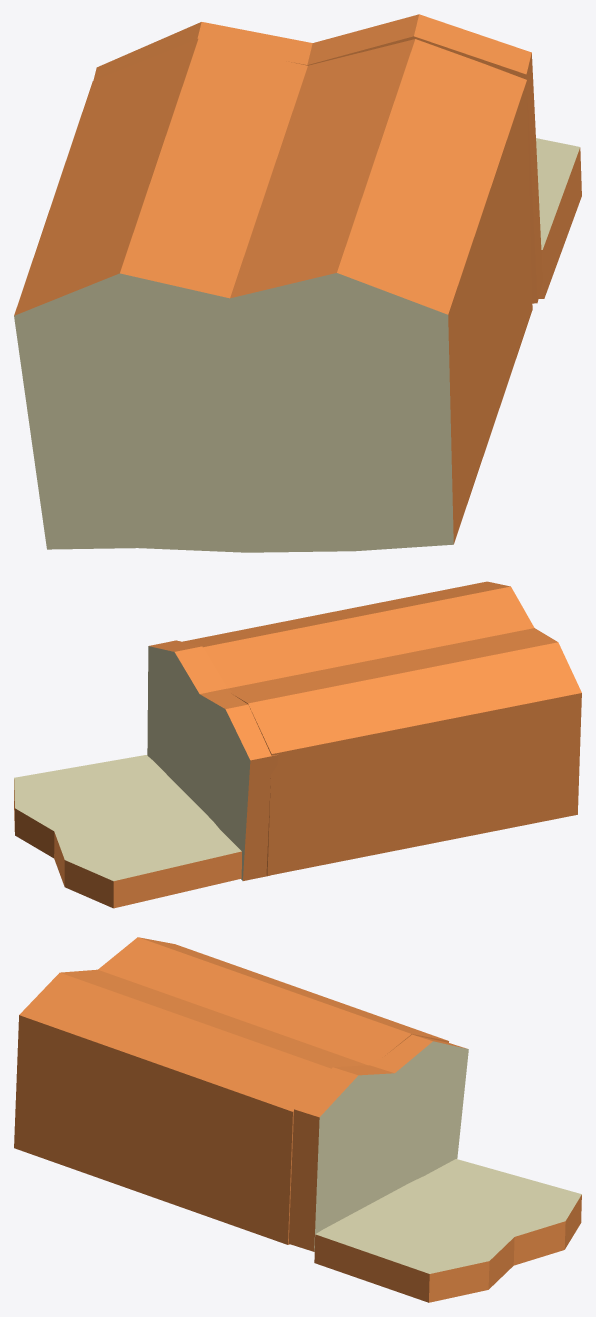
Rendered from uploads_files_1880509_Bread.fbx.
3 views of the same model, one above another, from view 1: azimuth 30°, elevation 25°; view 2: azimuth 150°, elevation 25°; view 3: azimuth 270°, elevation 25° (orthographic). The views are drawn at different scales.
Visible parts, largest first — view 1: BreadLoaf; view 2: BreadLoaf; view 3: BreadLoaf.
Boxes of the visible parts, x1,y1,x2,y2 form: BreadLoaf: [14, 14, 581, 552]; BreadLoaf: [14, 581, 581, 908]; BreadLoaf: [14, 937, 581, 1302].
Bounding box in the file's own units: 67.08 × 25 × 71.9.
